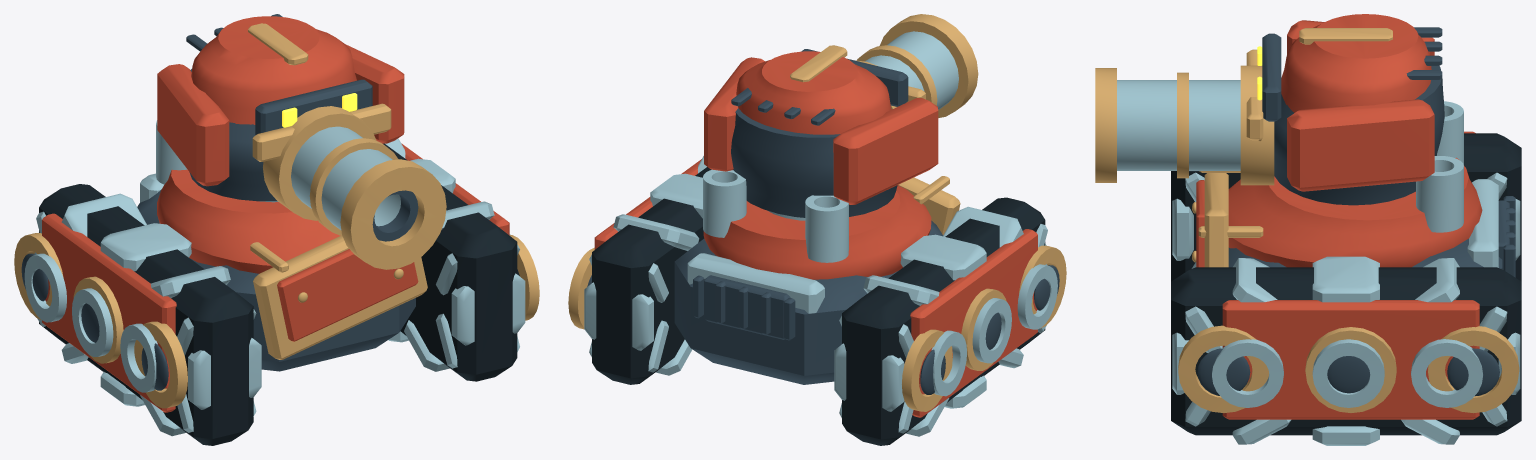
The model's file is RustCrawler.glb.
3 renders of one model, left to right at view 1: azimuth 30°, elevation 25°; view 2: azimuth 150°, elevation 25°; view 3: azimuth 270°, elevation 25°, orthographic. The views are drawn at different scales.
Parts seen in each view (by area): view 1: Track_L, Chassis, Turret, Track_R, Cannon; view 2: Track_L, Chassis, Turret, Track_R, Cannon; view 3: Track_R, Turret, Chassis, Cannon, Track_L.
Part boxes in pixels (<box>): Track_L: <box>14,184,261,445</box>; Chassis: <box>137,120,427,371</box>; Turret: <box>157,14,404,201</box>; Track_R: <box>383,138,539,381</box>; Cannon: <box>263,106,446,269</box>; Track_L: <box>834,197,1066,445</box>; Chassis: <box>674,169,960,384</box>; Turret: <box>704,45,938,217</box>; Track_R: <box>568,156,711,384</box>; Cannon: <box>856,14,978,117</box>; Track_R: <box>1171,256,1521,445</box>; Turret: <box>1246,14,1444,205</box>; Chassis: <box>1192,101,1515,277</box>; Cannon: <box>1095,65,1274,185</box>; Track_L: <box>1171,131,1521,281</box>.
Size of the model in its own units: 1.88 by 1.54 by 1.78.
